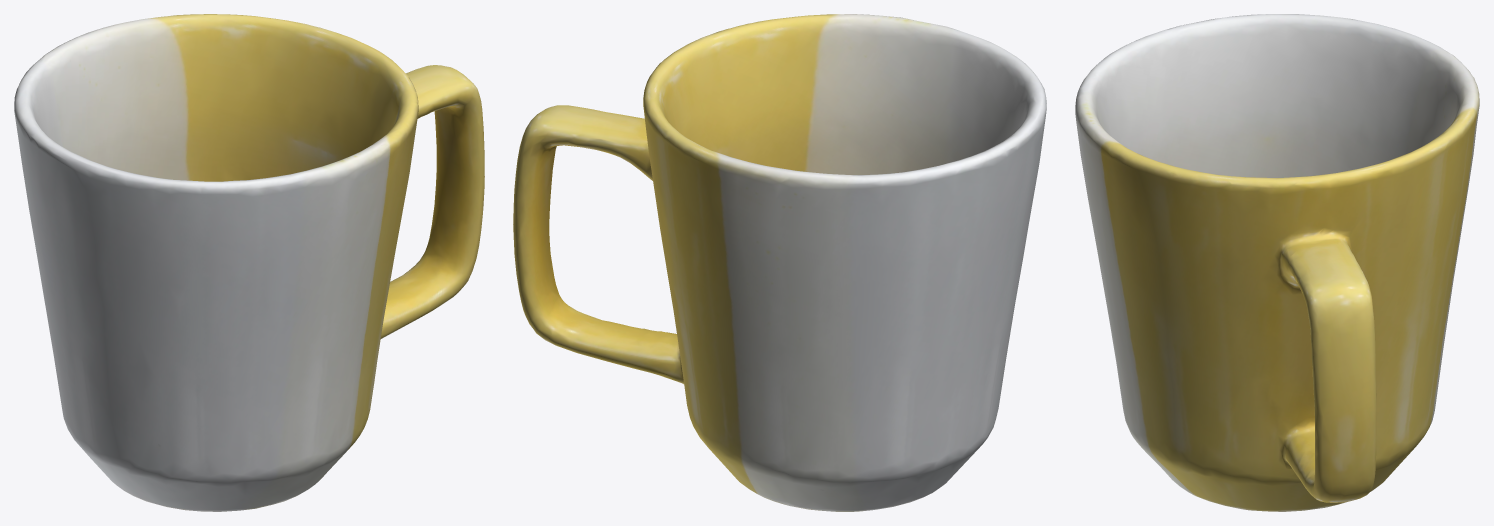
The model's file is Room_Essentials_Mug_White_Yellow.glb.
3 views of the same model, side by side, from view 1: azimuth 30°, elevation 25°; view 2: azimuth 150°, elevation 25°; view 3: azimuth 270°, elevation 25° (orthographic).
Parts seen in each view (by area): view 1: Room_Essentials_Mug_White_Yellow; view 2: Room_Essentials_Mug_White_Yellow; view 3: Room_Essentials_Mug_White_Yellow.
Boxes of the visible parts, x1=… form: Room_Essentials_Mug_White_Yellow: x1=14, y1=14, x2=484, y2=511; Room_Essentials_Mug_White_Yellow: x1=513, y1=14, x2=1046, y2=511; Room_Essentials_Mug_White_Yellow: x1=1075, y1=14, x2=1479, y2=511.
Size of the model in its own units: 0.1368 by 0.1048 by 0.1022.
1 material, 1 textured.
